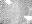person: (5, 0, 13, 5), (26, 15, 32, 21)
